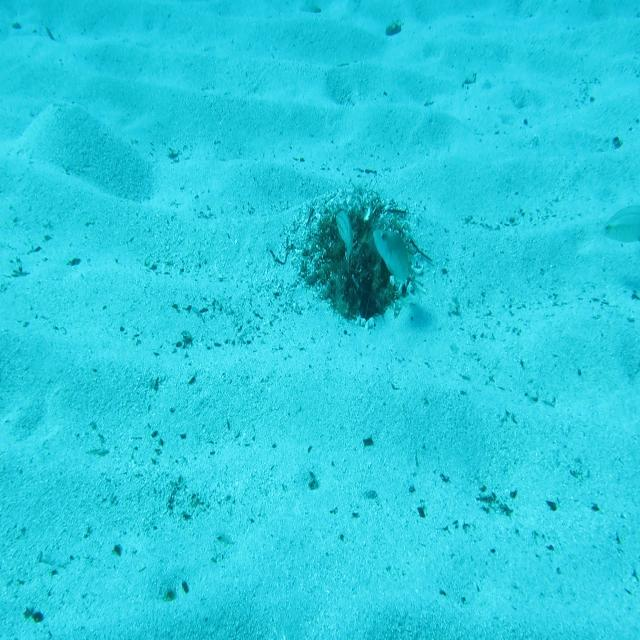BEND: (373, 227, 416, 291)
female: (334, 208, 358, 277)
nest: (298, 176, 425, 319)
